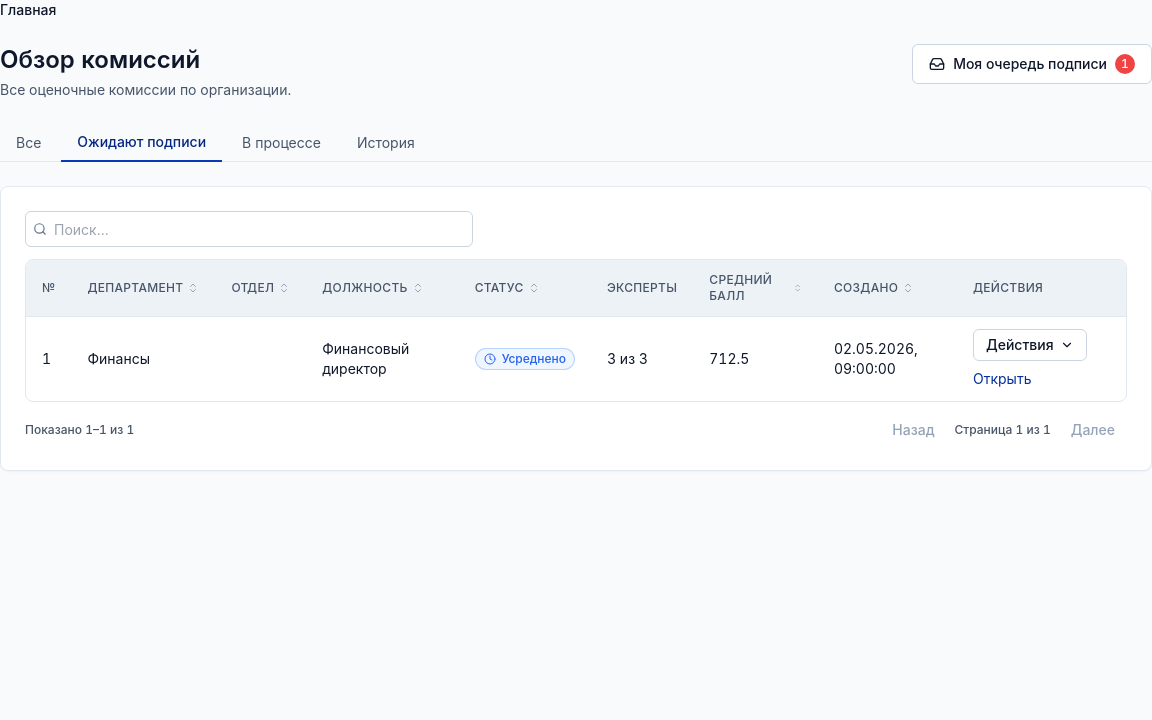
Test: <CeoPanelsPage /> inline sign-off (dropdown UX) › clicking Tasdiqlayman in the dropdown opens a ConfirmDialog
Click the button with test id "ceo-actions-menu-trigger" at (1030,345), box [973,329,1087,361]
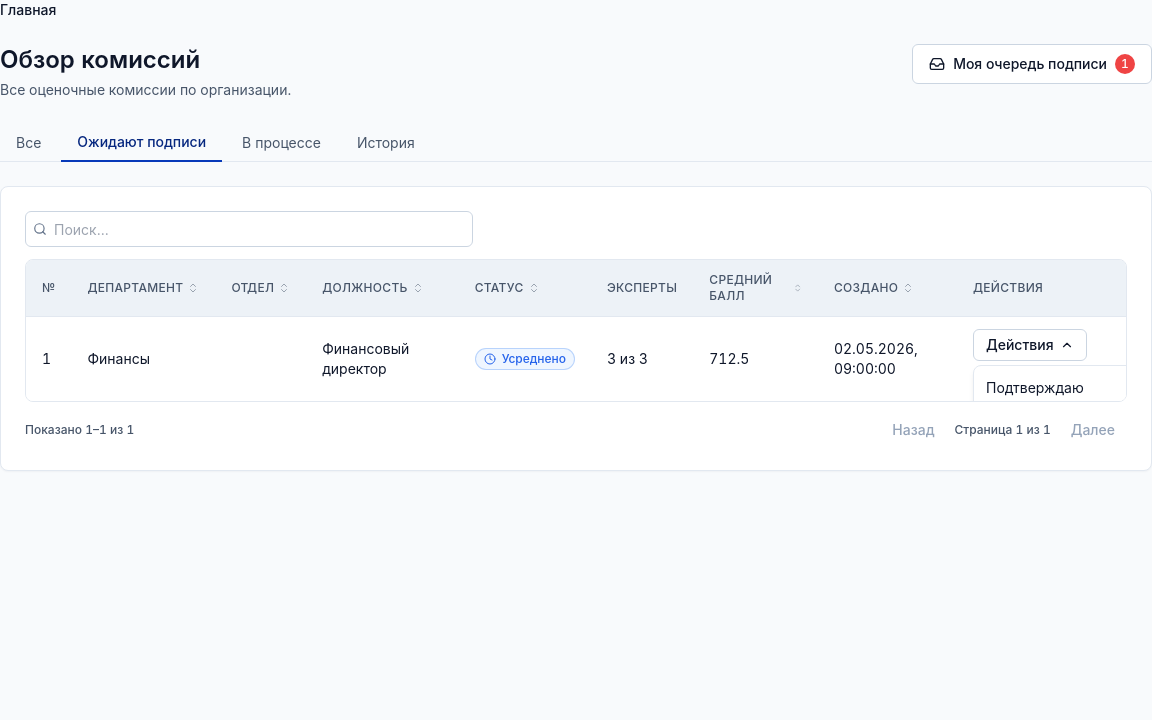
Click the menu item with test id "ceo-inline-approve" at (1061,388), box [974,370,1148,406]
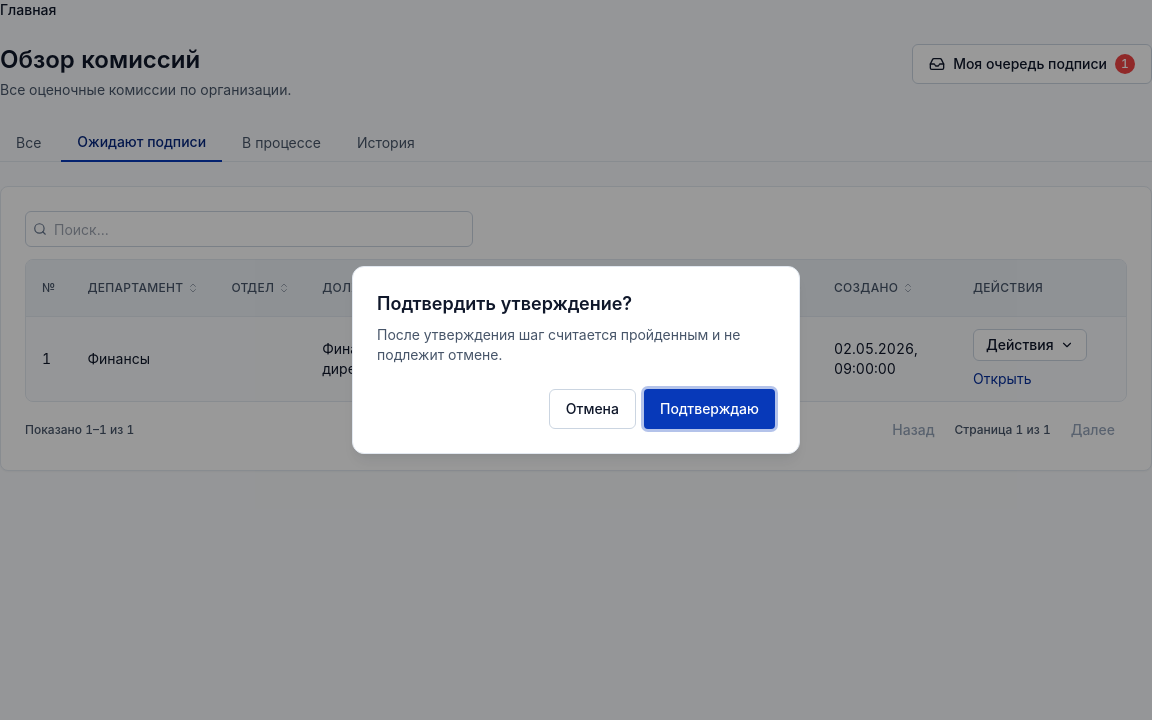
Check: the dialog is shown
